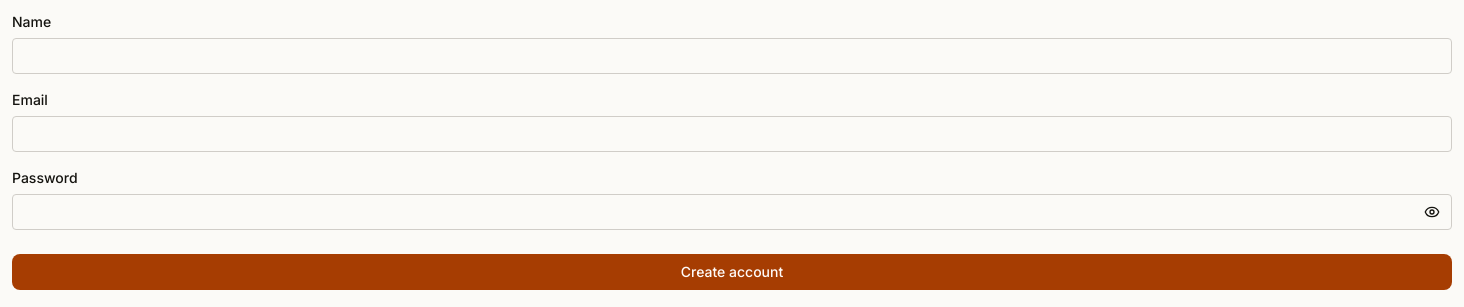
SignUpForm › enters a pending state while submitting
The image size is (1464, 307).
Type "Dor Shaul" into the field labelled "Name". click: (732, 56)
box: x1=12 y1=38 x2=1452 y2=74
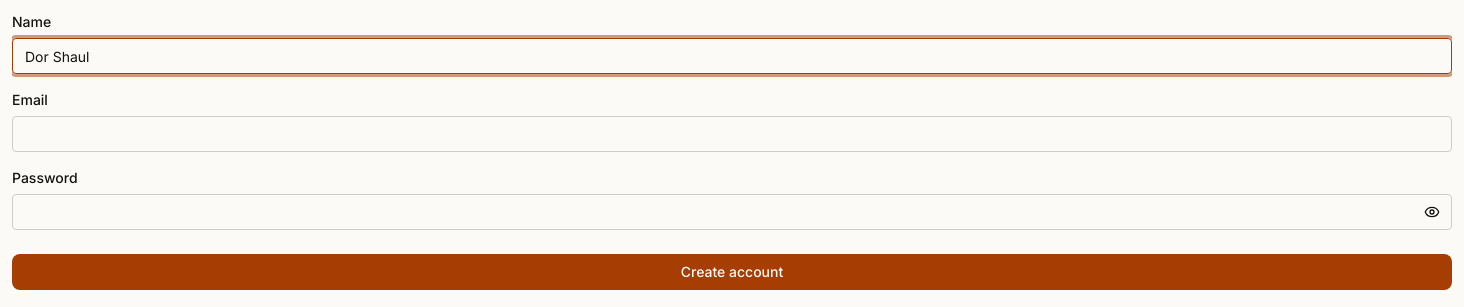
Type "dor@example.com" into the field labelled "Email". click: (732, 134)
box: x1=12 y1=116 x2=1452 y2=152
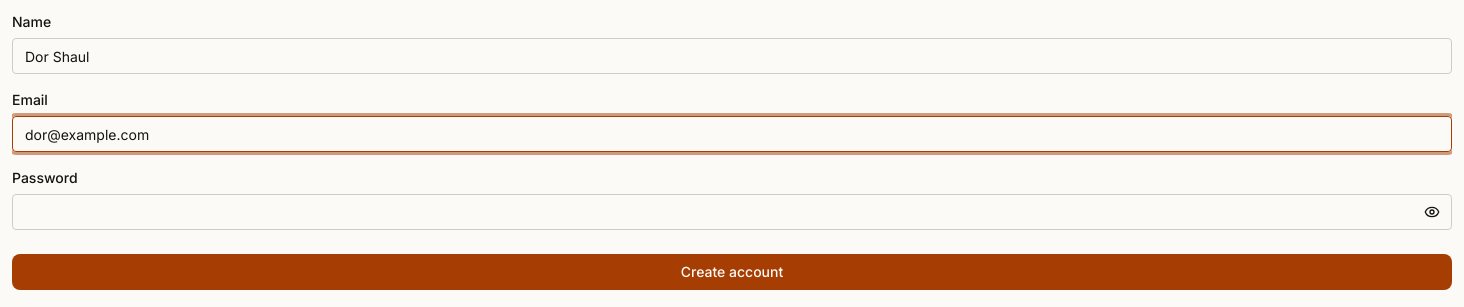
Type "correct horse battery staple" into the password field labelled "Password". click: (732, 212)
box: x1=12 y1=194 x2=1452 y2=230
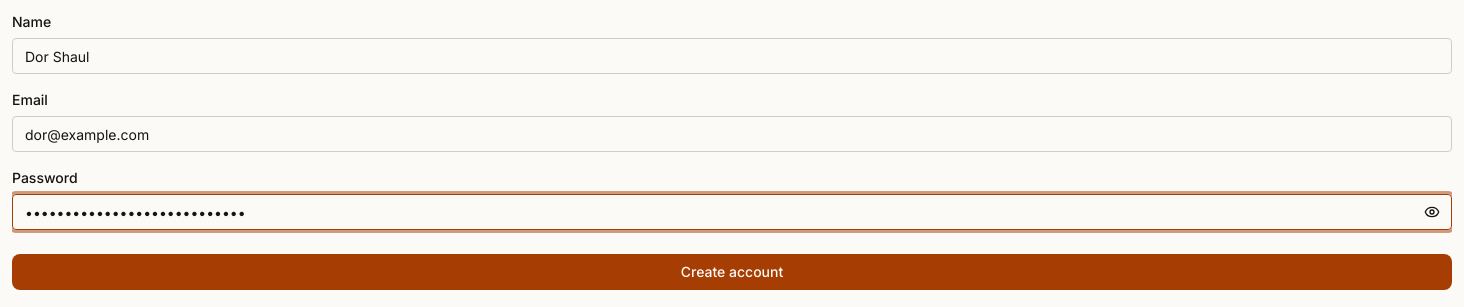
Click the button "Create account". click: (732, 272)
box: x1=12 y1=254 x2=1452 y2=290
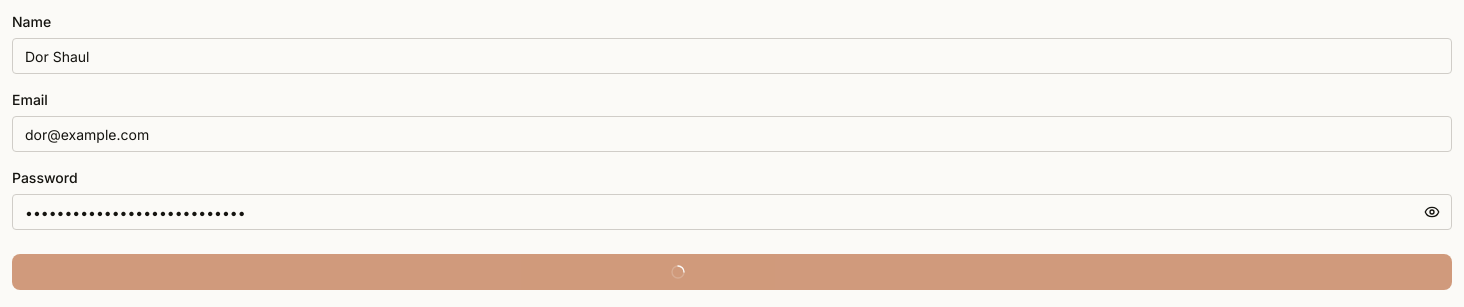
Expected: the button named "Create account" is disabled, x1=12 y1=254 x2=1452 y2=290
